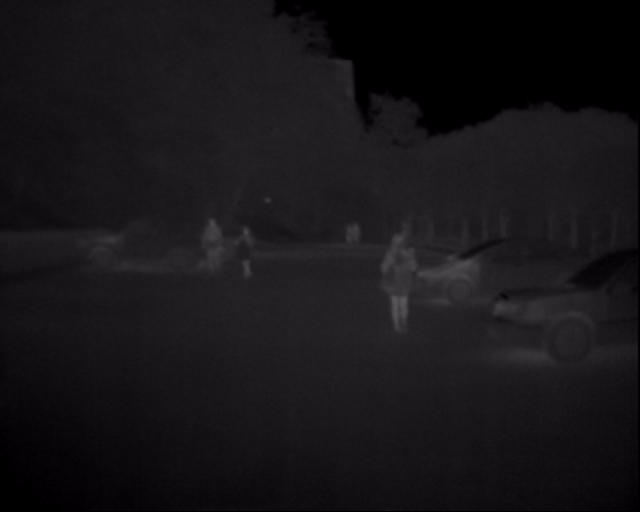person: (375, 219, 427, 335), (225, 214, 267, 287), (202, 213, 234, 279), (354, 222, 374, 255), (335, 222, 355, 253)
